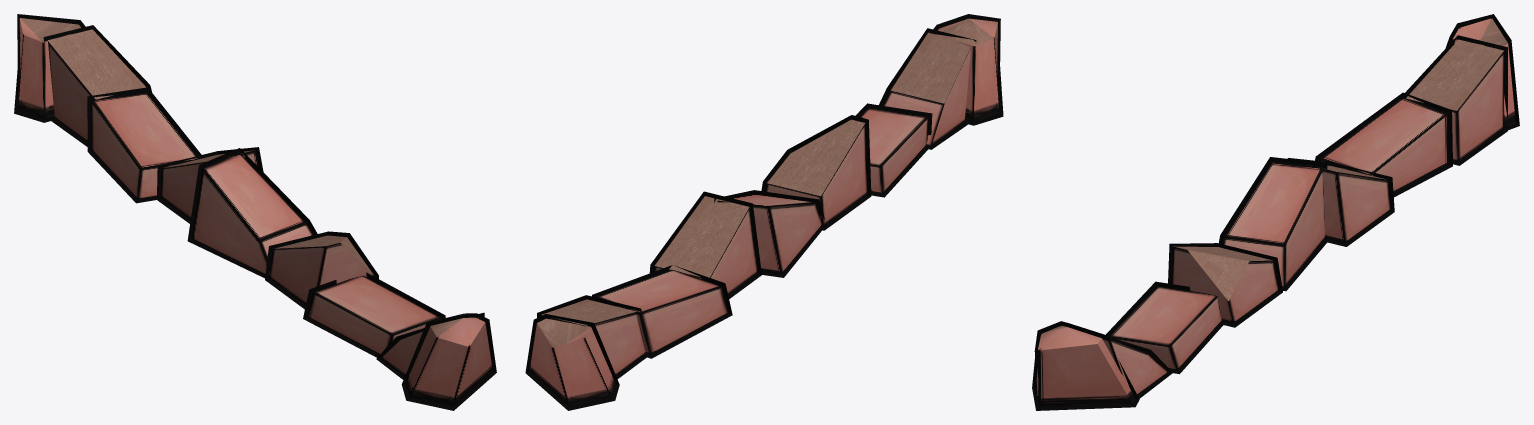
File: normal_wall_state01.FBX
3 renders of one model, left to right at view 1: azimuth 30°, elevation 25°; view 2: azimuth 150°, elevation 25°; view 3: azimuth 330°, elevation 25°, orthographic. The views are drawn at different scales.
Parts seen in each view (by area): view 1: Box104, Box105; view 2: Box104, Box105; view 3: Box104, Box105.
Boxes of the visible parts, bbox=[...] form: Box104: bbox=[17, 18, 492, 406]; Box105: bbox=[14, 14, 496, 410]; Box104: bbox=[529, 18, 999, 406]; Box105: bbox=[525, 14, 1003, 410]; Box104: bbox=[1036, 18, 1515, 406]; Box105: bbox=[1032, 14, 1519, 410].
Bounding box in the file's own units: 0.2389 × 0.2048 × 1.95.
3 materials, 2 textured.
